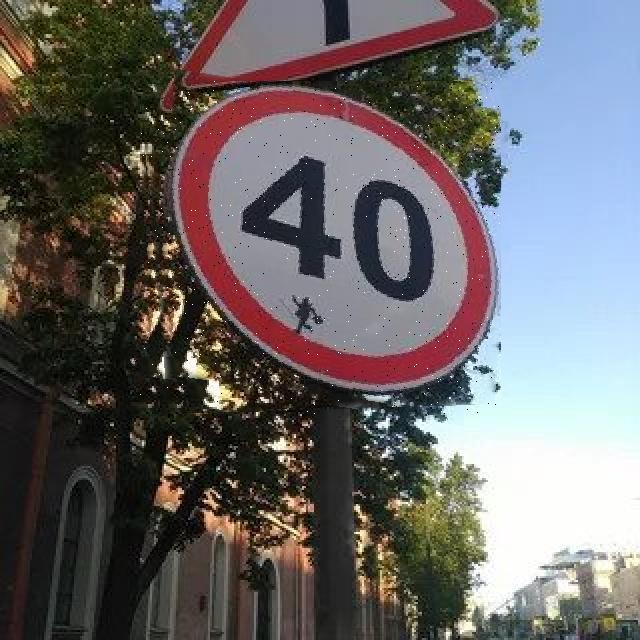speed limit 40: (139, 81, 501, 414)
